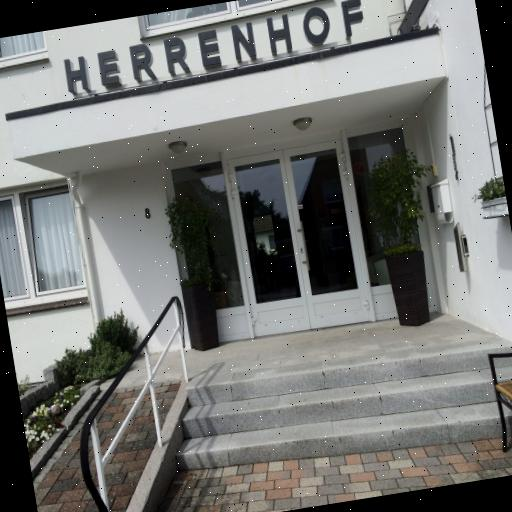ramp: (20, 373, 203, 512)
stairs: (167, 337, 512, 484)
